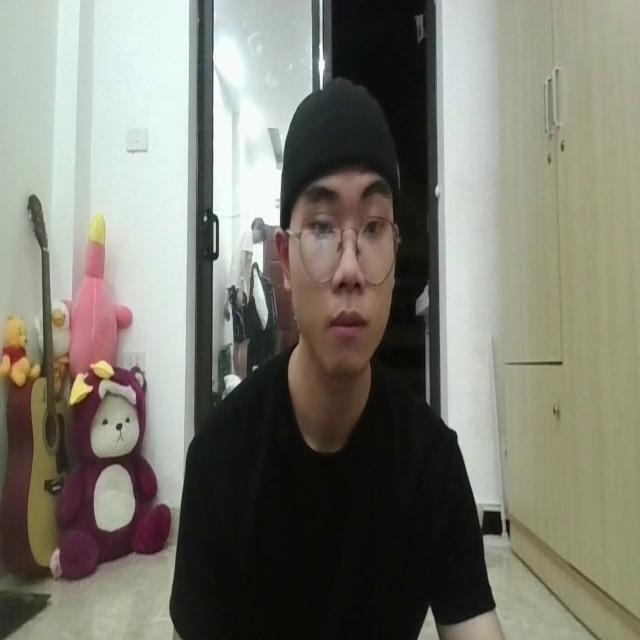student: (173, 64, 493, 640)
